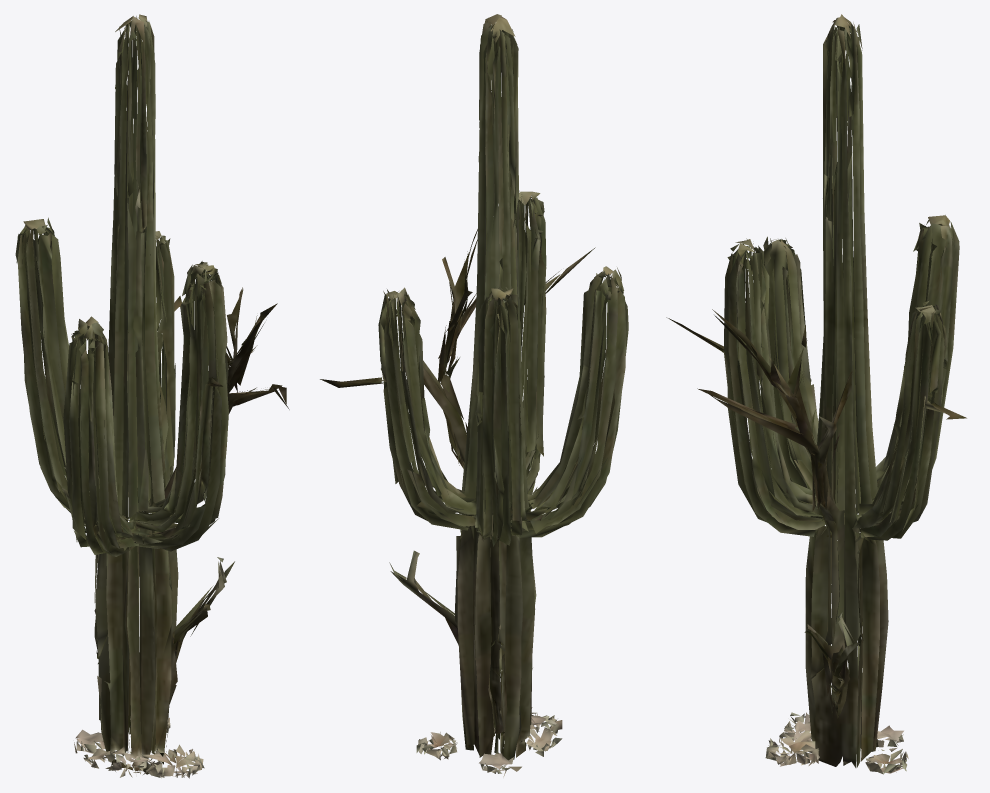
The model's file is cacto_colunar_morta.glb.
3 views of the same model, side by side, from view 1: azimuth 30°, elevation 25°; view 2: azimuth 150°, elevation 25°; view 3: azimuth 270°, elevation 25° (orthographic).
Parts seen in each view (by area): view 1: geometry_0; view 2: geometry_0; view 3: geometry_0.
Part boxes in pixels (box(x1,y1,x2,y2)): geometry_0: box(15, 14, 289, 778); geometry_0: box(320, 14, 628, 777); geometry_0: box(666, 14, 966, 774).
Bounding box in the file's own units: 0.2967 × 1 × 0.3892.
Materials: 1 (1 with a texture image).
